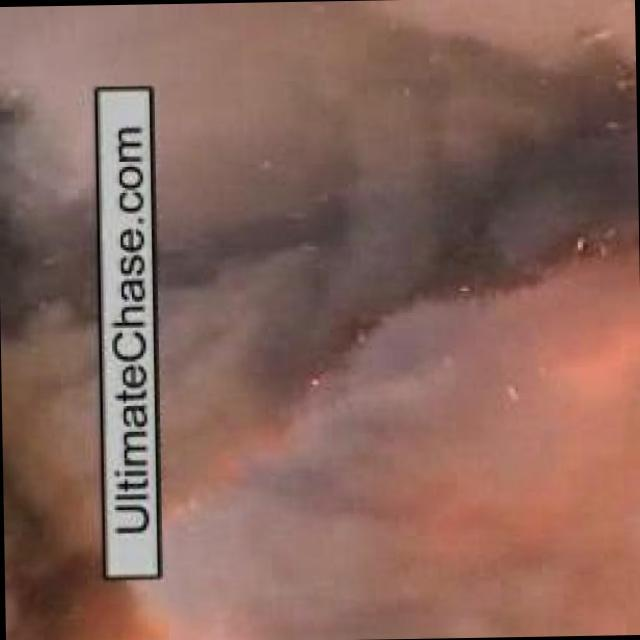Fire: (369, 337, 640, 628), (9, 569, 169, 640)
